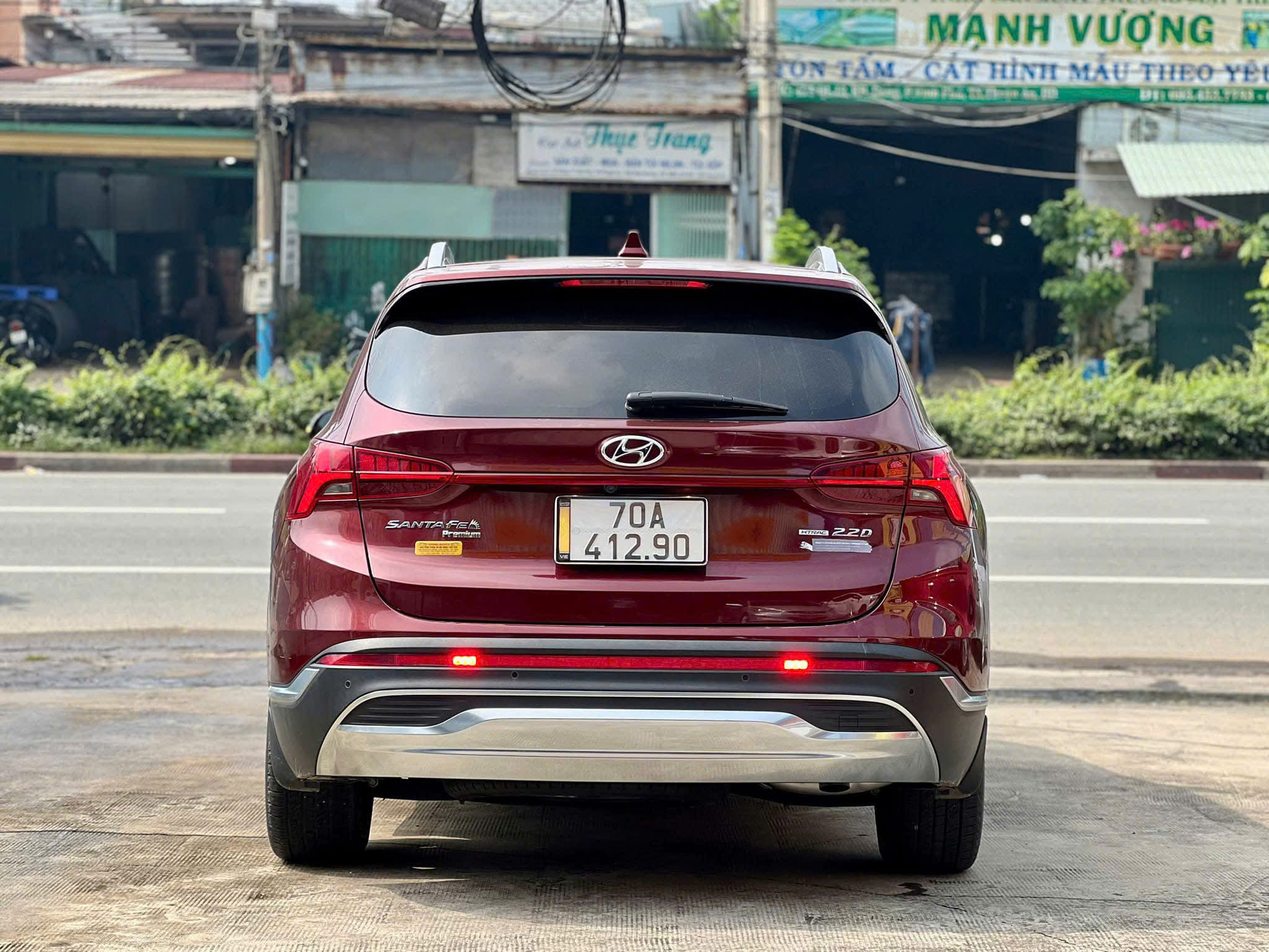Bien-so: (571, 492, 712, 566)
